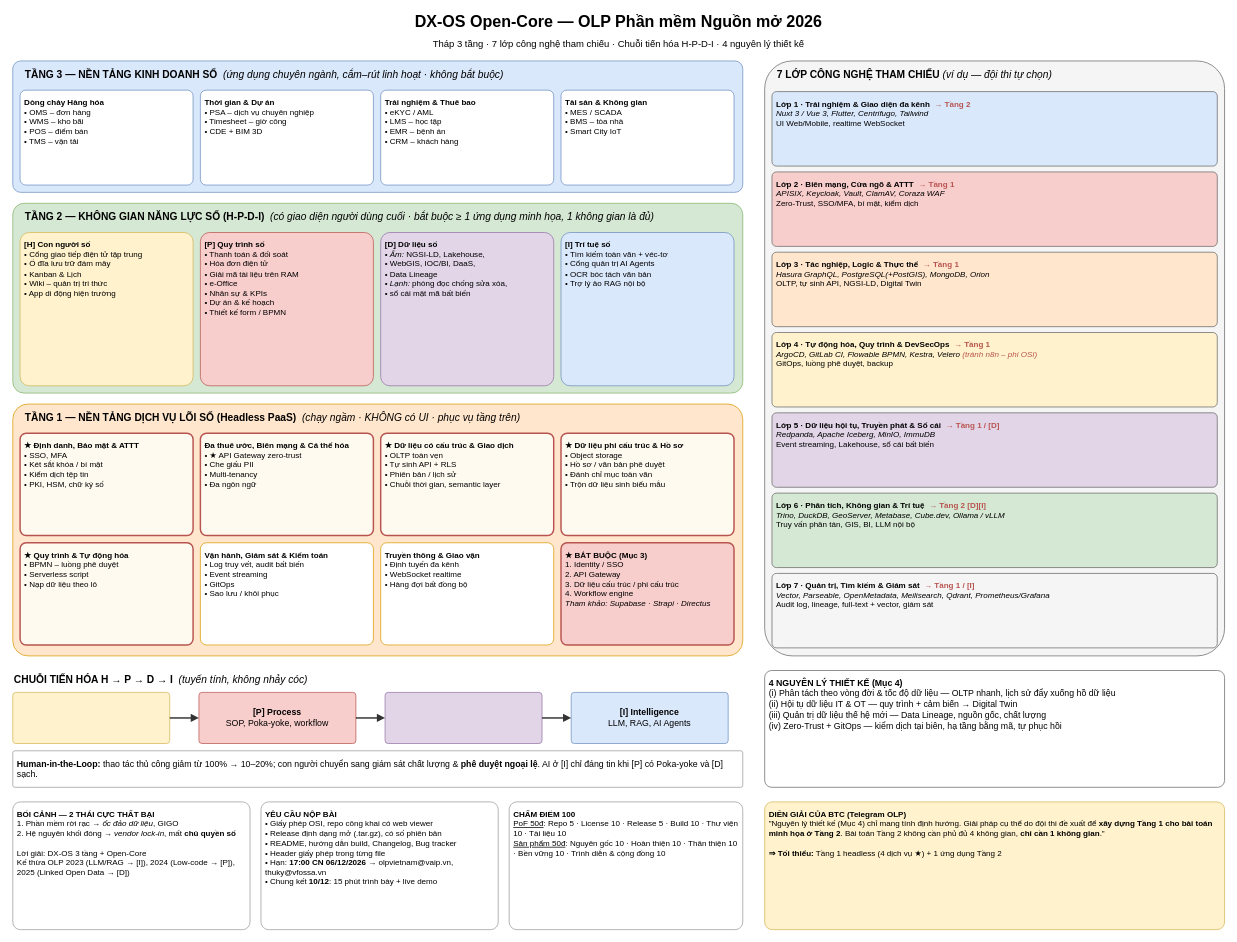
Image size: 1237x942. Some labels were removed from this diagram. Here are the shapes that lost their labels. From the top down, the box of each, then its label:
(12, 692, 170, 744): [H] Human SSO, chat, wiki, P.A.R.A
(384, 692, 542, 744): [D] Data Single Source of Truth, BI
